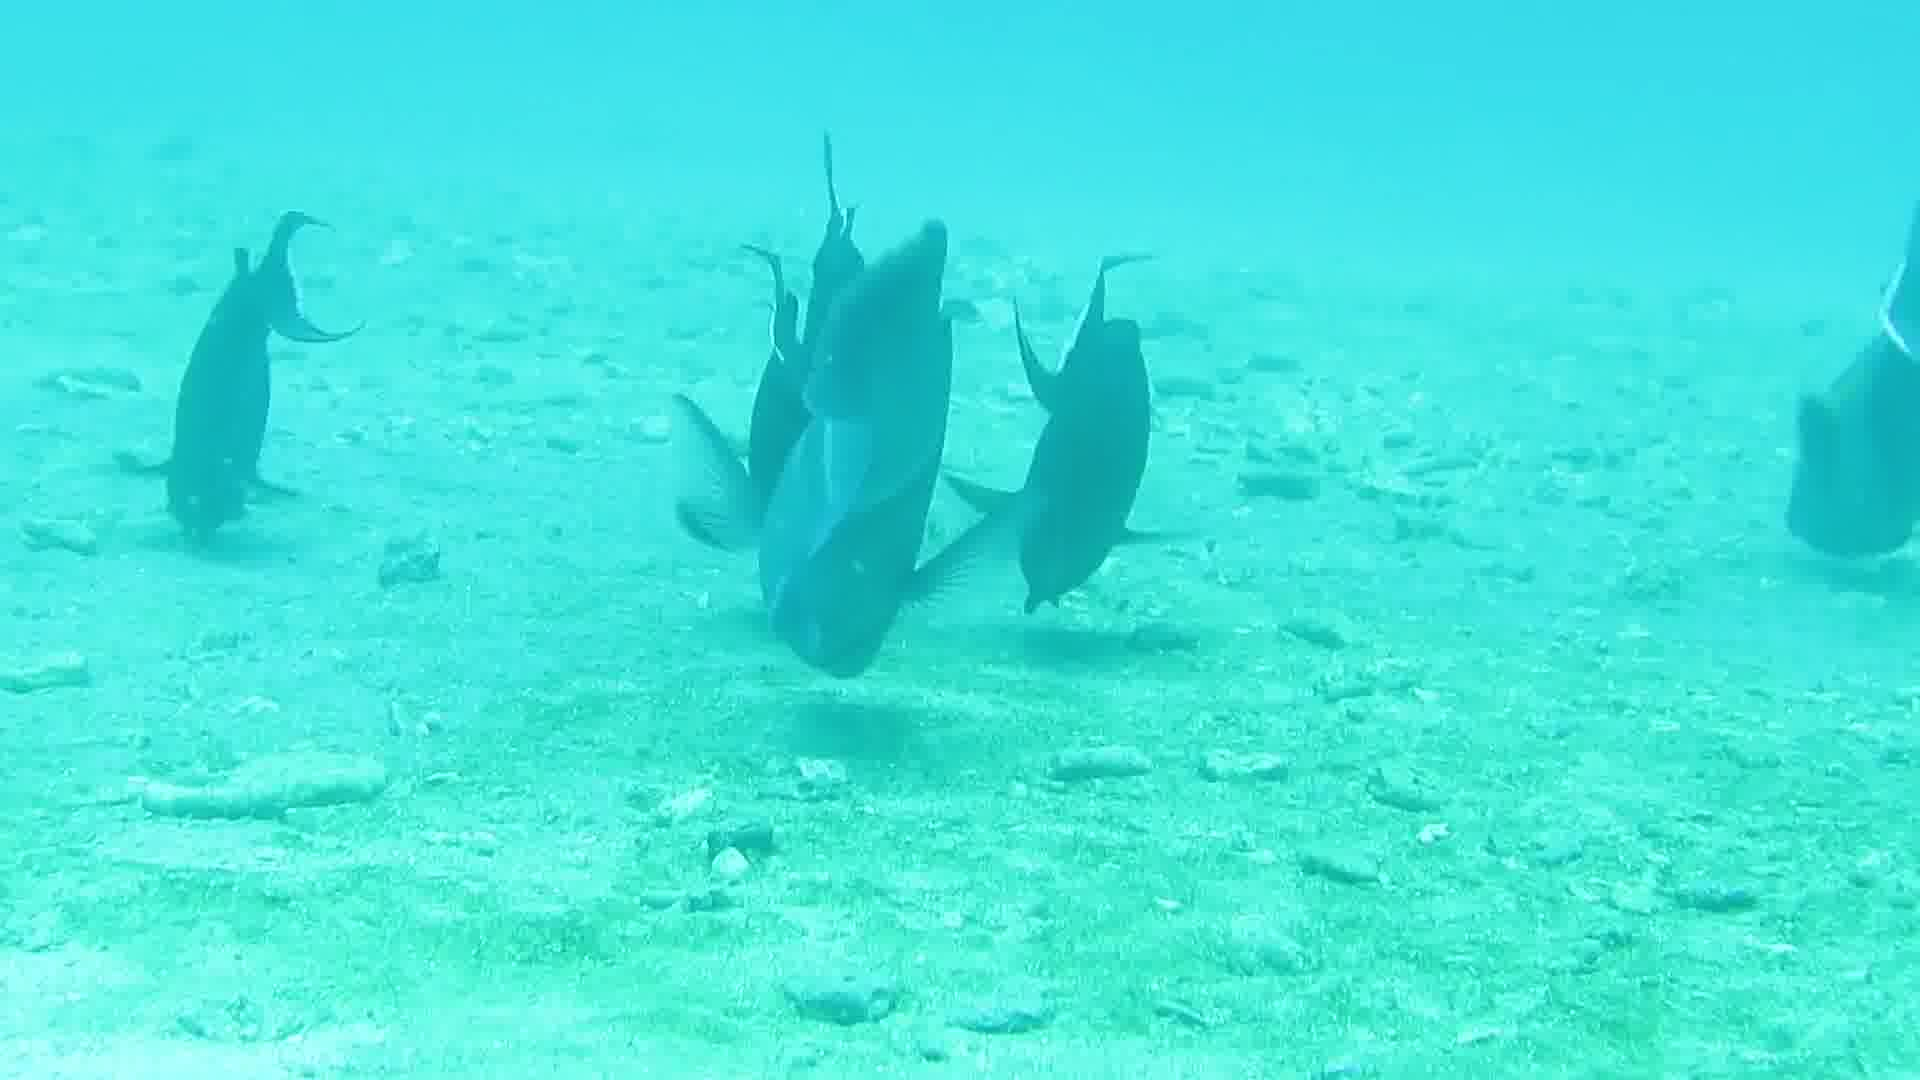Acanthurus olivaceus: (984, 223, 1304, 649), (62, 178, 382, 604), (1598, 166, 1917, 592), (667, 241, 986, 667)
